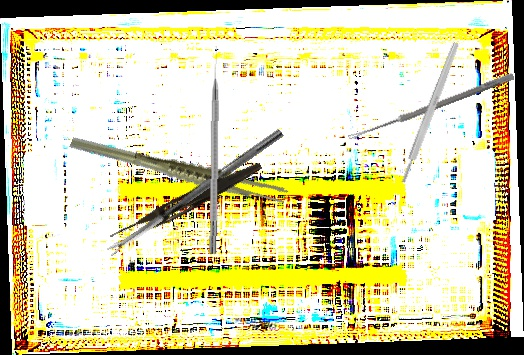Dressing Forceps: (109, 154, 264, 252)
Hook Surgical: (208, 45, 222, 255)
Scalpel Handle: (398, 41, 461, 184)
Surgical Spoon: (106, 127, 284, 257), (347, 71, 515, 143)
Tissue Forceps: (68, 97, 290, 241)
